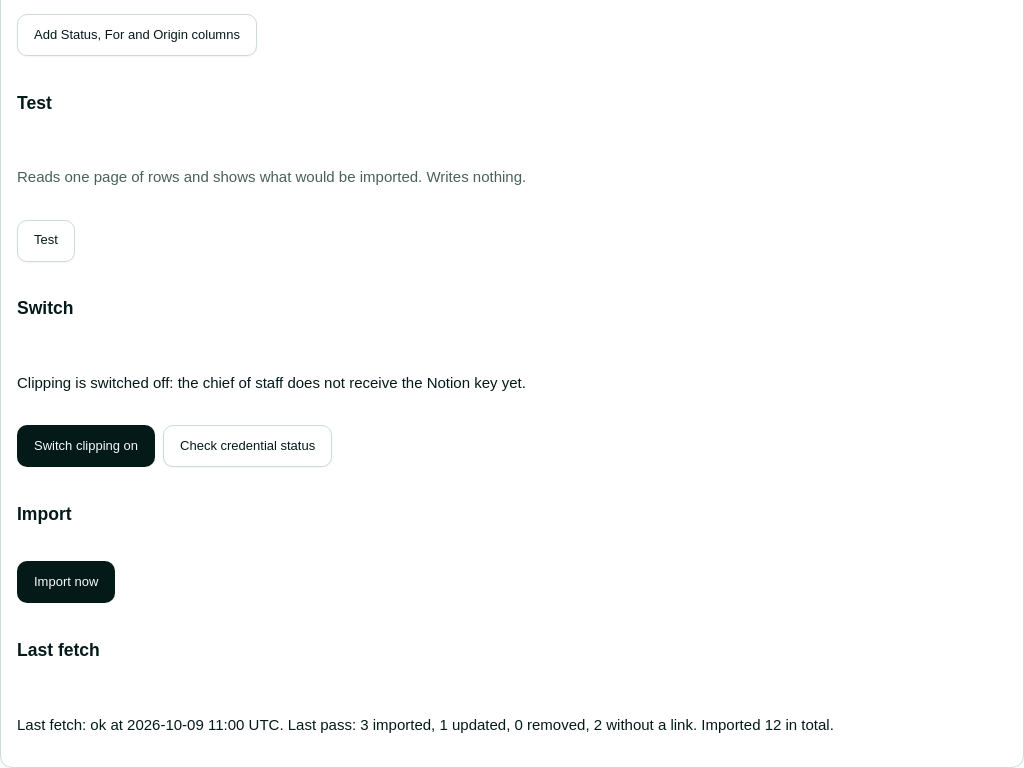
Test case: the switch confirms before restarting anything › a preview that fails shows its sentence and opens no confirmation
This screenshot has width=1024, height=768.
(page scrolled)
Click the button "Switch clipping on": (86, 446) [17,425,155,467]
(page scrolled)
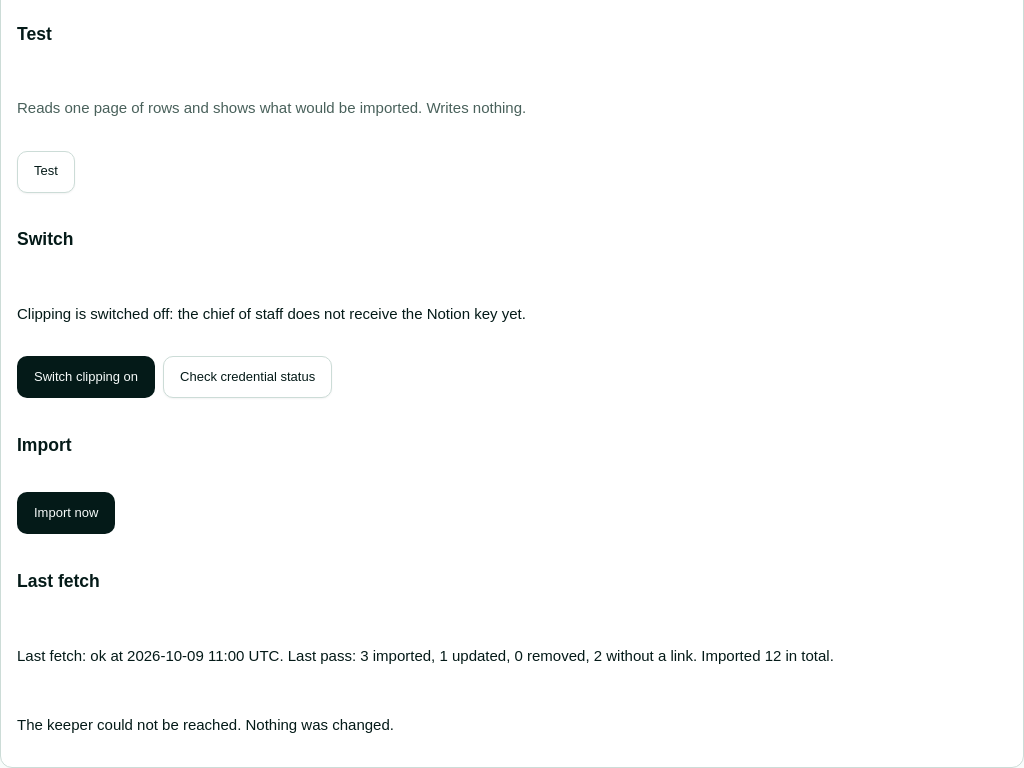
Now the text "The keeper could not be reached. Nothing was changed." is shown, box [17,716,394,733]
